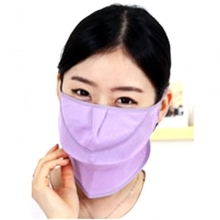face_mask: (61, 57, 158, 163)
